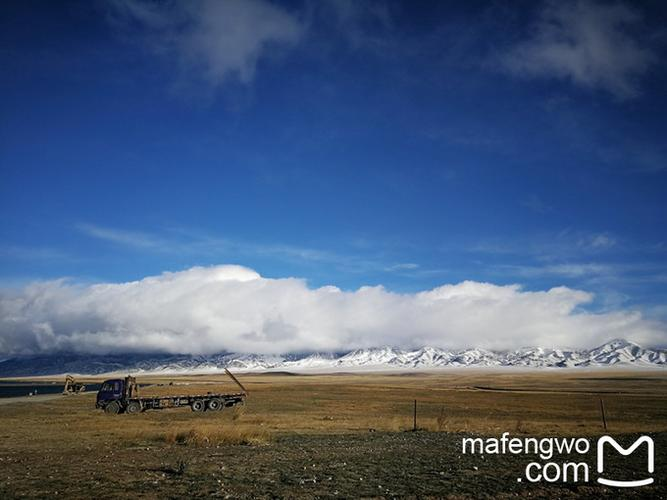sky_cloud: (14, 59, 653, 277)
